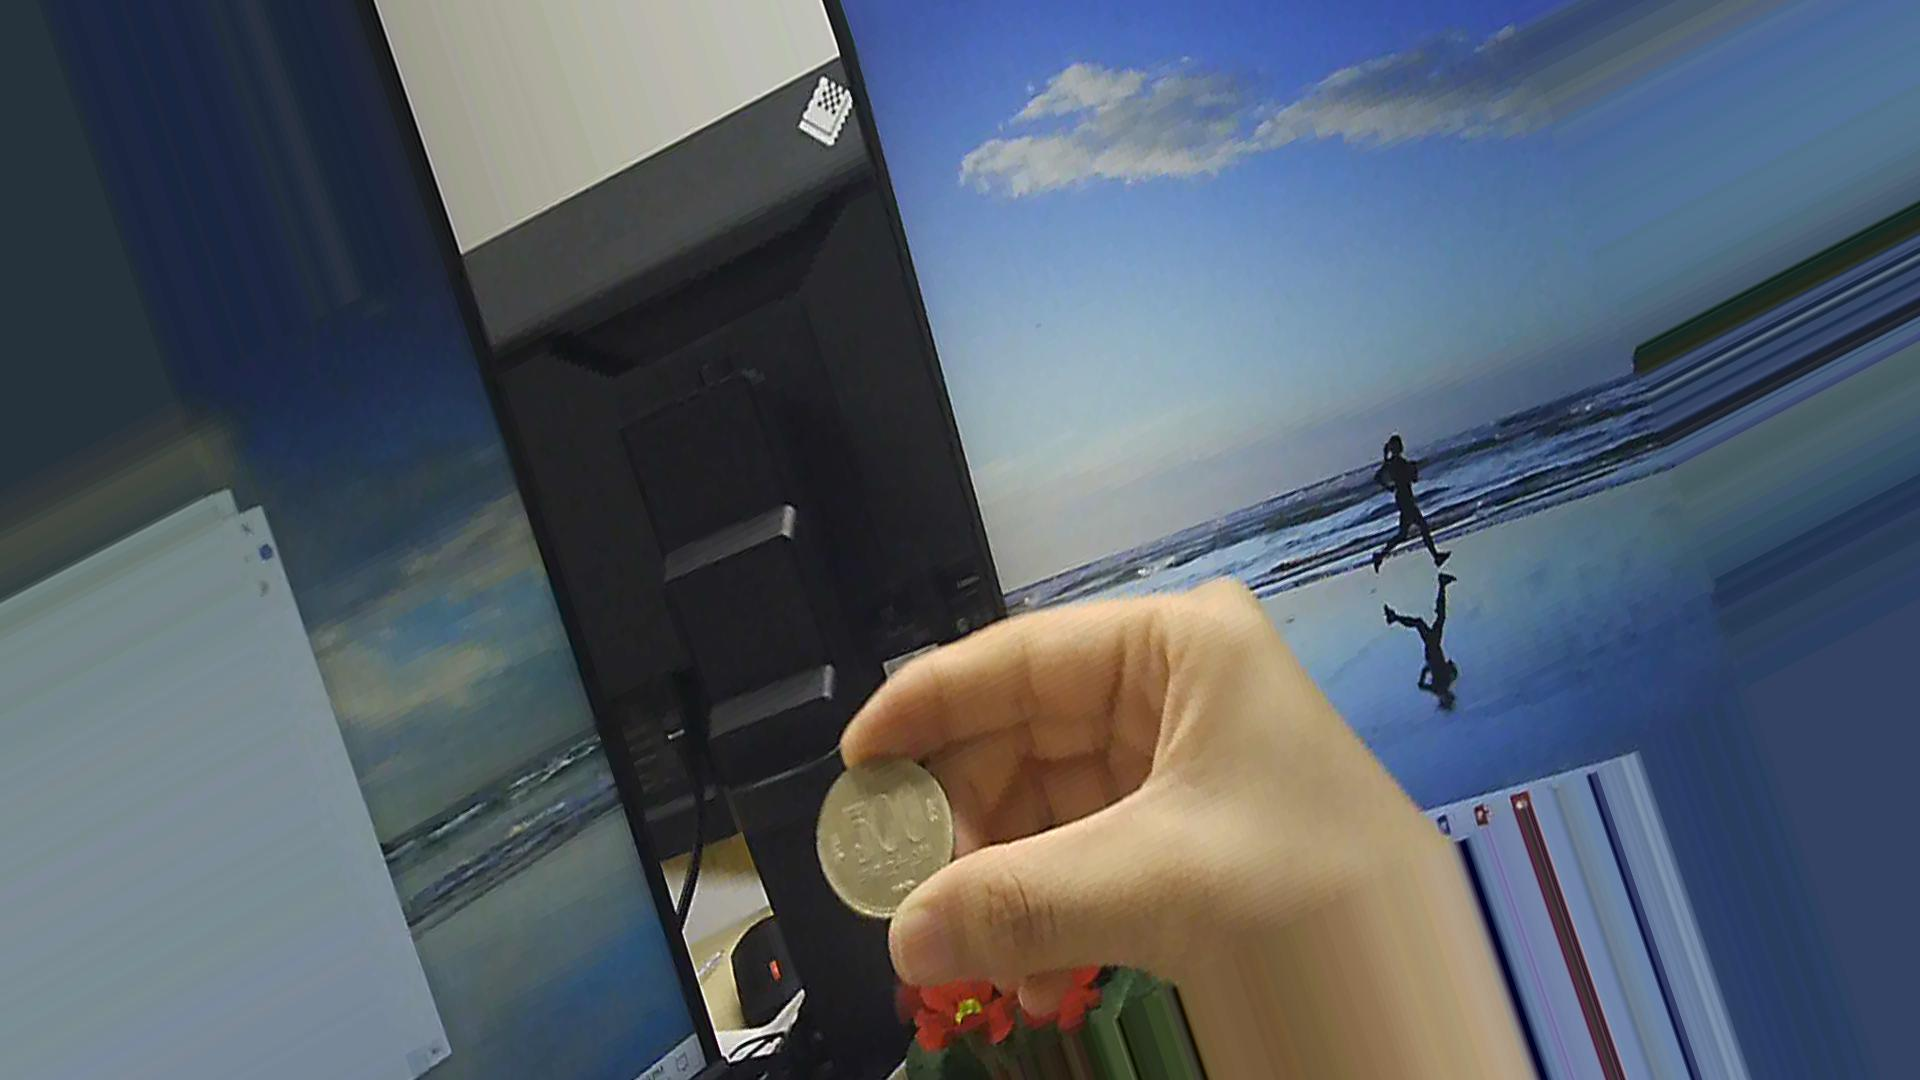500 Yen: (807, 764, 959, 920)
